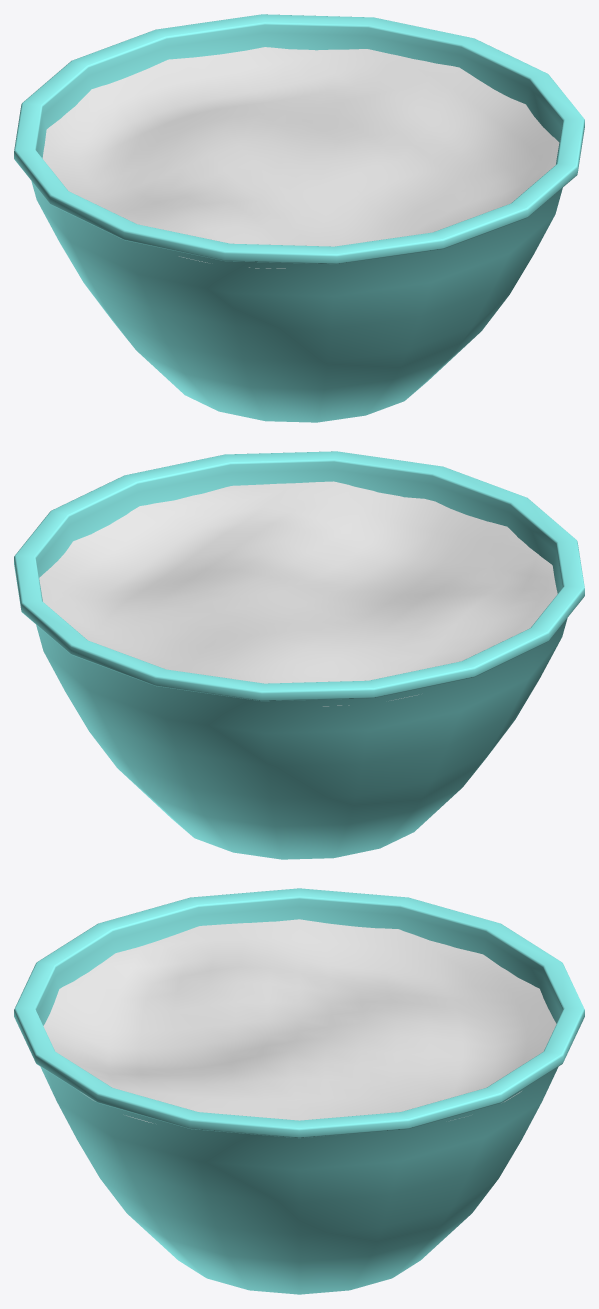
Rendered from P_Cereal_Bowl.fbx.
3 renders of one model, top to bottom at view 1: azimuth 30°, elevation 25°; view 2: azimuth 150°, elevation 25°; view 3: azimuth 270°, elevation 25°, orthographic.
Parts seen in each view (by area): view 1: P_Bowl; view 2: P_Bowl; view 3: P_Bowl.
Boxes of the visible parts, left/top/right/bottom form: P_Bowl: left=14, top=14, right=584, bottom=422; P_Bowl: left=14, top=451, right=584, bottom=859; P_Bowl: left=14, top=888, right=584, bottom=1294.
Size of the model in its own units: 3513 by 1568 by 3513.
